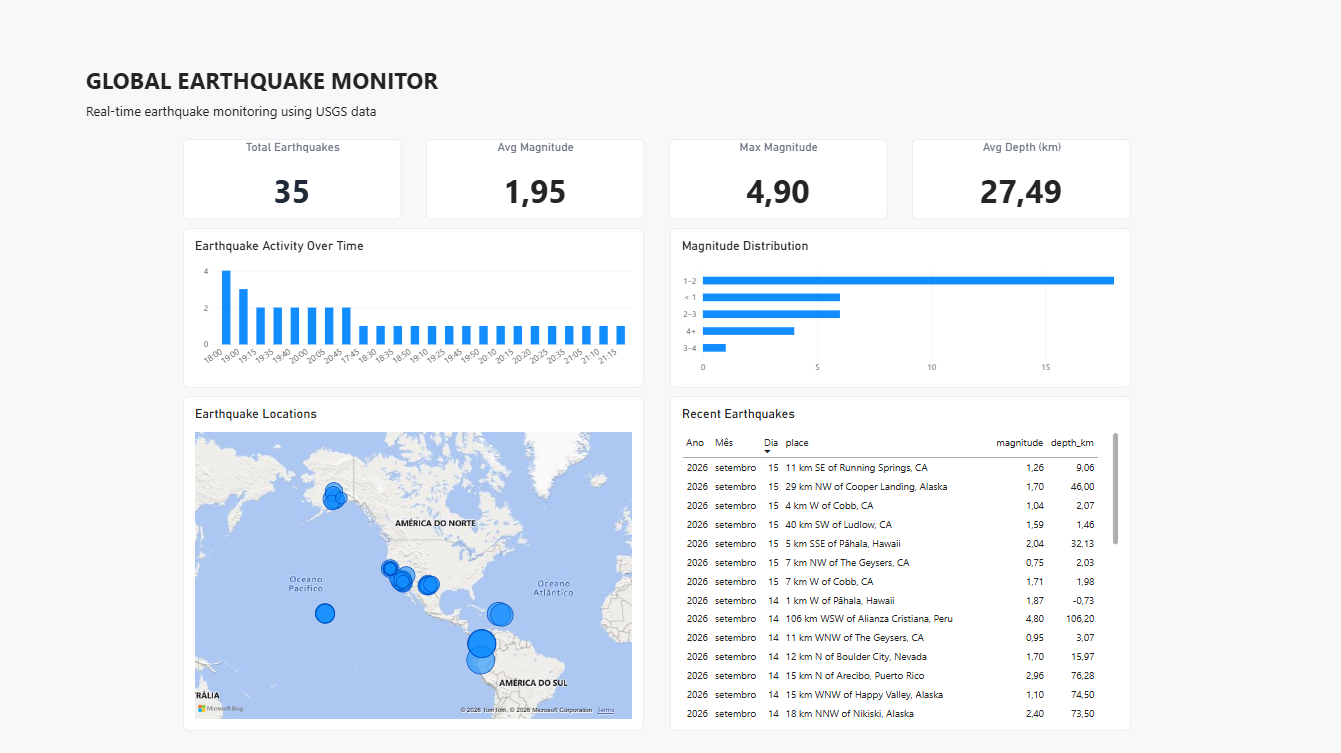

The page's visual inventory and layout, read from the dashboard file:
{"tool":"powerbi","page":{"name":"Página 1","canvas":[1920,1080],"ordinal":0},"visuals":[{"type":"textbox","box":[123.3,93.3,651.7,53.3],"z":0},{"type":"textbox","box":[123.1,147.4,492.9,42.9],"z":1000},{"type":"cardVisual","title":"Max Magnitude","fields":{"Data":["Max(public earthquakes.magnitude)"]},"box":[956.1,200,311.7,115],"z":2000},{"type":"cardVisual","title":"Avg Depth (km)","fields":{"Data":["Avg(public earthquakes.depth_km)"]},"box":[1303.3,200,311.7,115],"z":3000},{"type":"cardVisual","title":"Total Earthquakes","fields":{"Data":["Count(public earthquakes.event_id)"]},"box":[261.7,200,311.7,115],"z":4000},{"type":"cardVisual","title":"Avg Magnitude","fields":{"Data":["Avg(public earthquakes.magnitude)"]},"box":[608.9,200,311.7,115],"z":5000},{"type":"clusteredColumnChart","title":"Earthquake Activity Over Time","fields":{"Category":["public earthquakes.time_5min"],"Y":["CountNonNull(public earthquakes.event_id)"]},"box":[261.7,326.7,658.3,228.3],"z":6000},{"type":"clusteredBarChart","title":"Magnitude Distribution","fields":{"Category":["public earthquakes.magnitude_band"],"Y":["Count(public earthquakes.event_id)"]},"box":[956.7,326.7,658.3,228.3],"z":7000},{"type":"map","title":"Earthquake Locations","fields":{"Size":["Max(public earthquakes.magnitude)"],"X":["public earthquakes.longitude"],"Y":["public earthquakes.latitude"]},"box":[261.7,566.7,658.3,478.3],"z":7001},{"type":"tableEx","title":"Recent Earthquakes","fields":{"Values":["public earthquakes.event_datetime.Variation.Hierarquia de datas.Ano","public earthquakes.event_datetime.Variation.Hierarquia de datas.Mês","public earthquakes.event_datetime.Variation.Hierarquia de datas.Dia","public earthquakes.place","public earthquakes.magnitude","public earthquakes.depth_km"]},"box":[956.7,566.7,658.3,478.3],"z":7002}]}

Visuals, with their boxes in screenshot pixels (x1, y1, x2, y2), scaled from the page's 1920x1080 canvas onto the 1341x753 screenshot:
textbox: 86/65/541/102
textbox: 86/103/430/133
"Max Magnitude" cardVisual: 668/139/885/220
"Avg Depth (km)" cardVisual: 910/139/1128/220
"Total Earthquakes" cardVisual: 183/139/400/220
"Avg Magnitude" cardVisual: 425/139/643/220
"Earthquake Activity Over Time" clusteredColumnChart: 183/228/643/387
"Magnitude Distribution" clusteredBarChart: 668/228/1128/387
"Earthquake Locations" map: 183/395/643/729
"Recent Earthquakes" tableEx: 668/395/1128/729
